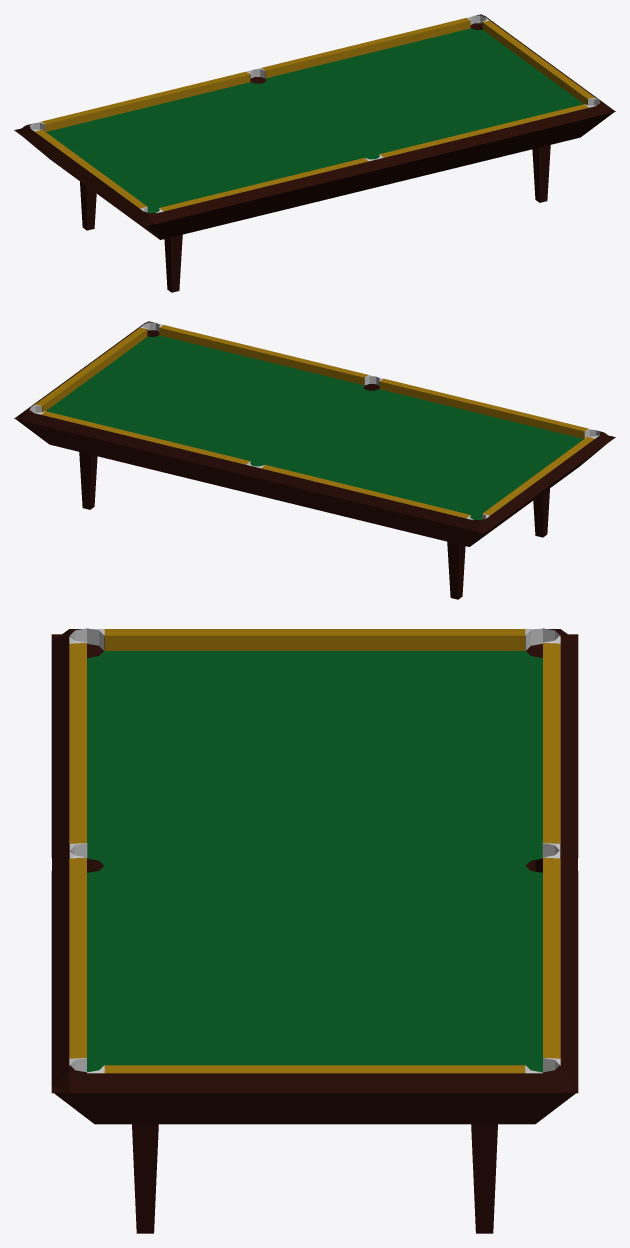
Rendered from pool.obj.
The picture shows the model from 3 angles, top to bottom: view 1: azimuth 30°, elevation 25°; view 2: azimuth 150°, elevation 25°; view 3: azimuth 270°, elevation 25°; orthographic projection. The views are drawn at different scales.
Parts seen in each view (by area): view 1: Plane; view 2: Plane; view 3: Plane.
Part boxes in pixels (x1=…): Plane: x1=14, y1=14, x2=615, y2=292; Plane: x1=14, y1=321, x2=615, y2=599; Plane: x1=51, y1=628, x2=578, y2=1233.
Bounding box in the file's own units: 20.66 × 4.2 × 10.01.
